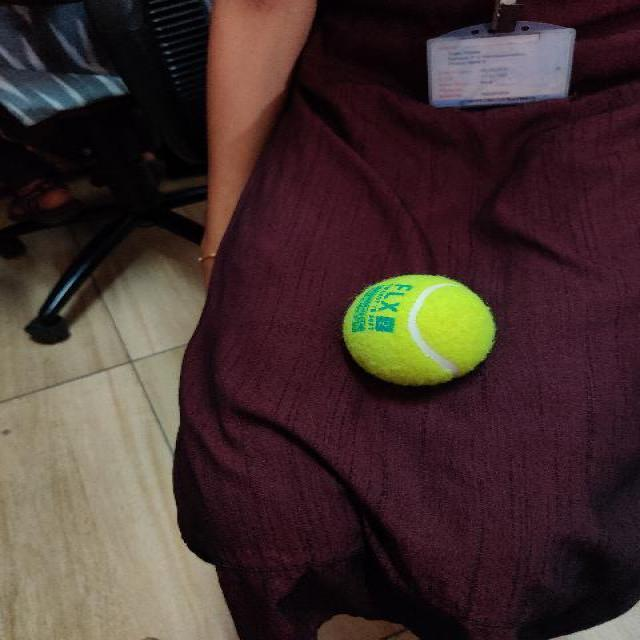tennis-ball: (342, 274, 492, 384)
